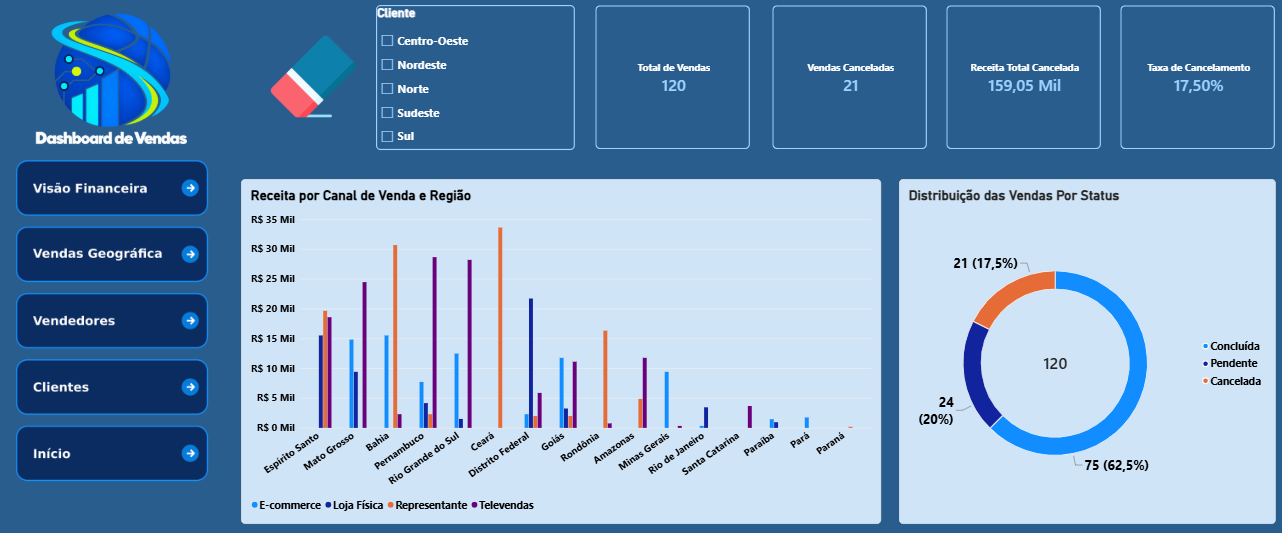

What the dashboard file says about the page in this screenshot:
{"tool":"powerbi","page":{"name":"Canais","canvas":[2300,1100],"ordinal":5},"visuals":[{"type":"donutChart","title":"Distribuição das Vendas Por Status","fields":{"Category":["FATO_VENDAS.Status"],"Y":["FATO_VENDAS.Total_Vendas"]},"box":[1601,337.1,665.5,609],"z":0},{"type":"lineClusteredColumnComboChart","title":"Receita por Canal de Venda e Região","fields":{"Category":["Dim_Estado.Estado"],"Series":["FATO_VENDAS.Canal_Venda"],"Y":["FATO_VENDAS.Receita_Total"]},"box":[439.5,337.1,1129.7,609],"z":1000},{"type":"cardVisual","fields":{"Data":["FATO_VENDAS.Total_Vendas"]},"box":[1064.8,29.4,274.3,255.7],"z":2000},{"type":"cardVisual","fields":{"Data":["FATO_VENDAS.Vendas_Canceladas"]},"box":[1376.3,29.4,274.3,255.7],"z":3000},{"type":"cardVisual","fields":{"Data":["FATO_VENDAS.Receita_Total_Cancelada"]},"box":[1684.7,29.4,274.3,255.7],"z":4000},{"type":"cardVisual","fields":{"Data":["FATO_VENDAS.Taxa_Cancelamento"]},"box":[1991.6,29.4,274.3,255.7],"z":5000},{"type":"image","box":[457.2,81.2,220,150],"z":6000},{"type":"image","box":[31,266.6,360,641],"z":7000},{"type":"slicer","title":"Cliente","fields":{"Values":["Dim_Estado.Regiao"]},"box":[677.8,30,351.3,255.9],"z":8000},{"type":"image","box":[37.2,13.9,345.6,286.7],"z":9000},{"type":"actionButton","box":[37.2,300.7,345.6,102.3],"z":10000},{"type":"actionButton","box":[37.2,421.6,345.6,97.6],"z":11000},{"type":"actionButton","box":[37.2,536.3,345.6,96.1],"z":12000},{"type":"actionButton","box":[37.2,657.1,345.6,97.6],"z":13000},{"type":"actionButton","box":[37.2,773.4,345.6,94.5],"z":14000}]}

Visuals, with their boxes on the page's 2300x1100 design canvas (x1, y1, x2, y2). These are canvas units, not pixel positions in the 1282x533 screenshot, which may show the page scaled, cropped or inside an application window:
"Distribuição das Vendas Por Status" donutChart: <box>1601,337,2266,946</box>
"Receita por Canal de Venda e Região" lineClusteredColumnComboChart: <box>440,337,1569,946</box>
cardVisual - FATO_VENDAS.Total_Vendas: <box>1065,29,1339,285</box>
cardVisual - FATO_VENDAS.Vendas_Canceladas: <box>1376,29,1651,285</box>
cardVisual - FATO_VENDAS.Receita_Total_Cancelada: <box>1685,29,1959,285</box>
cardVisual - FATO_VENDAS.Taxa_Cancelamento: <box>1992,29,2266,285</box>
image: <box>457,81,677,231</box>
image: <box>31,267,391,908</box>
"Cliente" slicer: <box>678,30,1029,286</box>
image: <box>37,14,383,301</box>
actionButton: <box>37,301,383,403</box>
actionButton: <box>37,422,383,519</box>
actionButton: <box>37,536,383,632</box>
actionButton: <box>37,657,383,755</box>
actionButton: <box>37,773,383,868</box>
